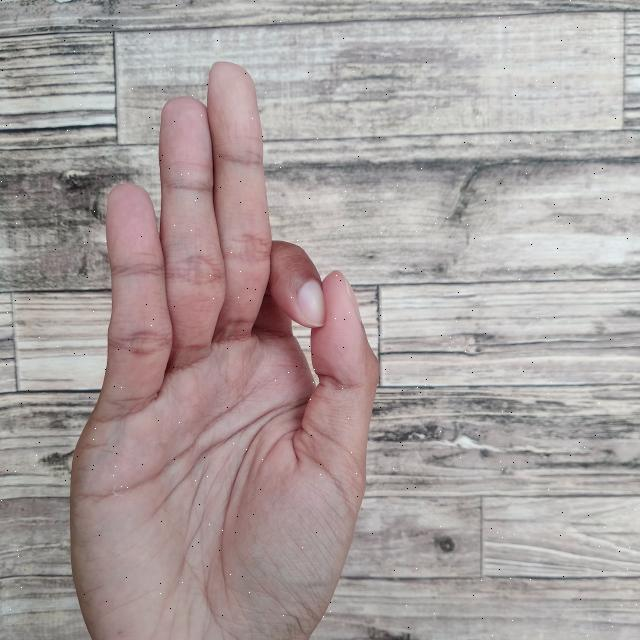F: (69, 56, 382, 640)
